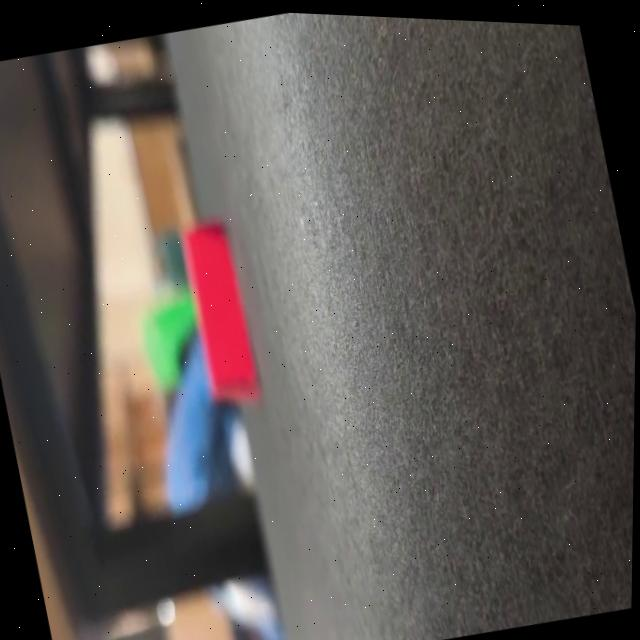red block: (173, 217, 264, 412)
